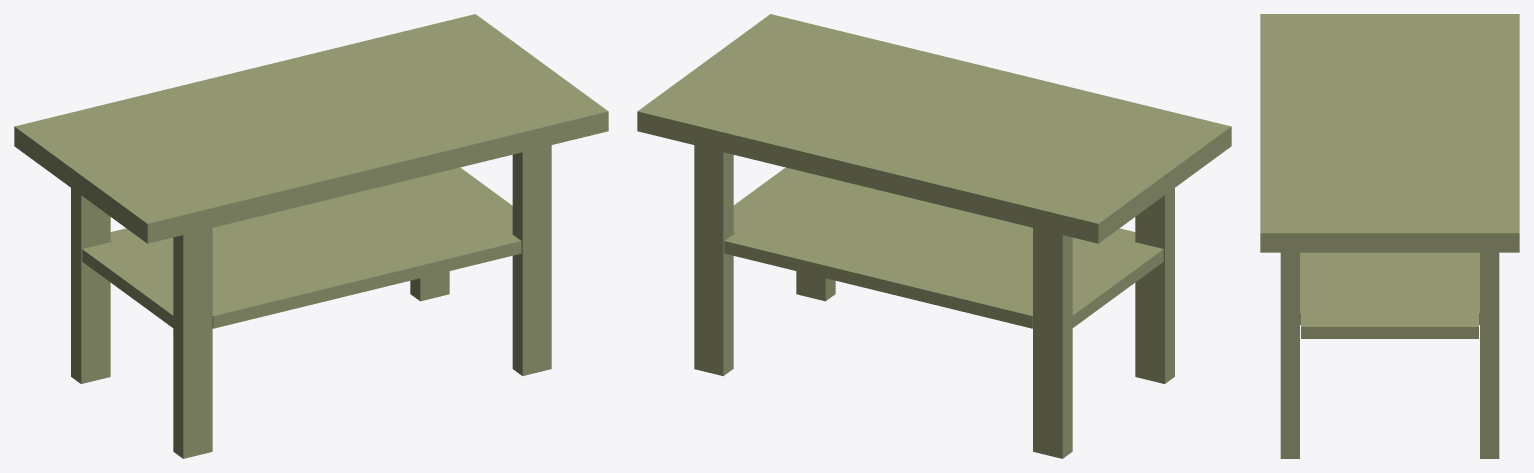
File: bureau.FBX
The picture shows the model from 3 angles, left to right: view 1: azimuth 30°, elevation 25°; view 2: azimuth 150°, elevation 25°; view 3: azimuth 270°, elevation 25°; orthographic projection. The views are drawn at different scales.
Parts seen in each view (by area): view 1: bureau; view 2: bureau; view 3: bureau.
Boxes of the visible parts, bbox=[...] form: bureau: bbox=[14, 14, 608, 458]; bureau: bbox=[637, 14, 1231, 458]; bureau: bbox=[1260, 14, 1519, 458].
Size of the model in its own units: 62.99 by 33.16 by 31.5.
